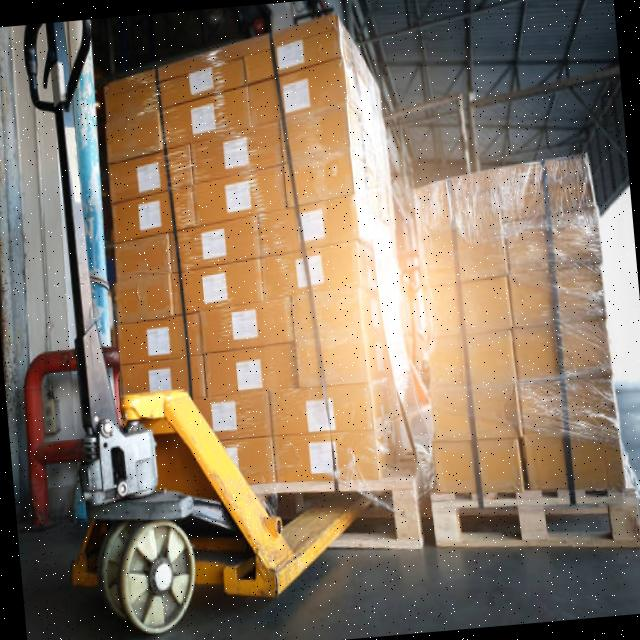Wooden-Pallets: (429, 485, 640, 564)
